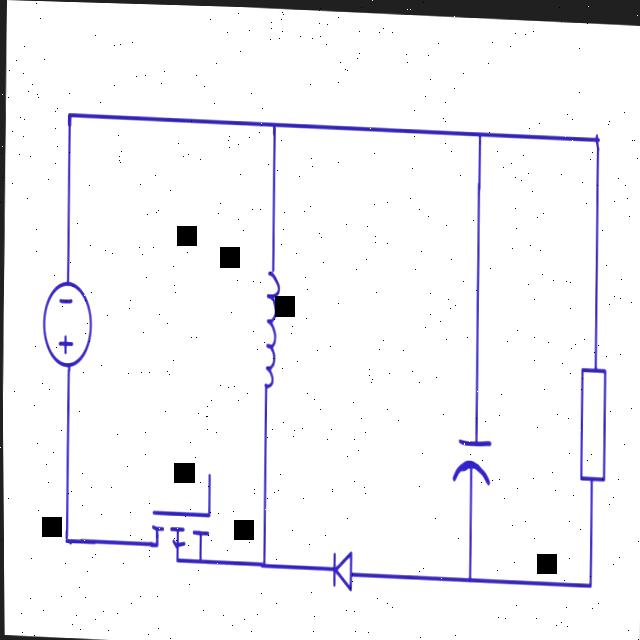capacitor: (442, 408, 496, 516)
diode: (316, 524, 368, 594)
inductor: (236, 232, 305, 406)
mosfet: (124, 453, 236, 573)
resistor: (562, 338, 622, 498)
source: (23, 262, 109, 382)
